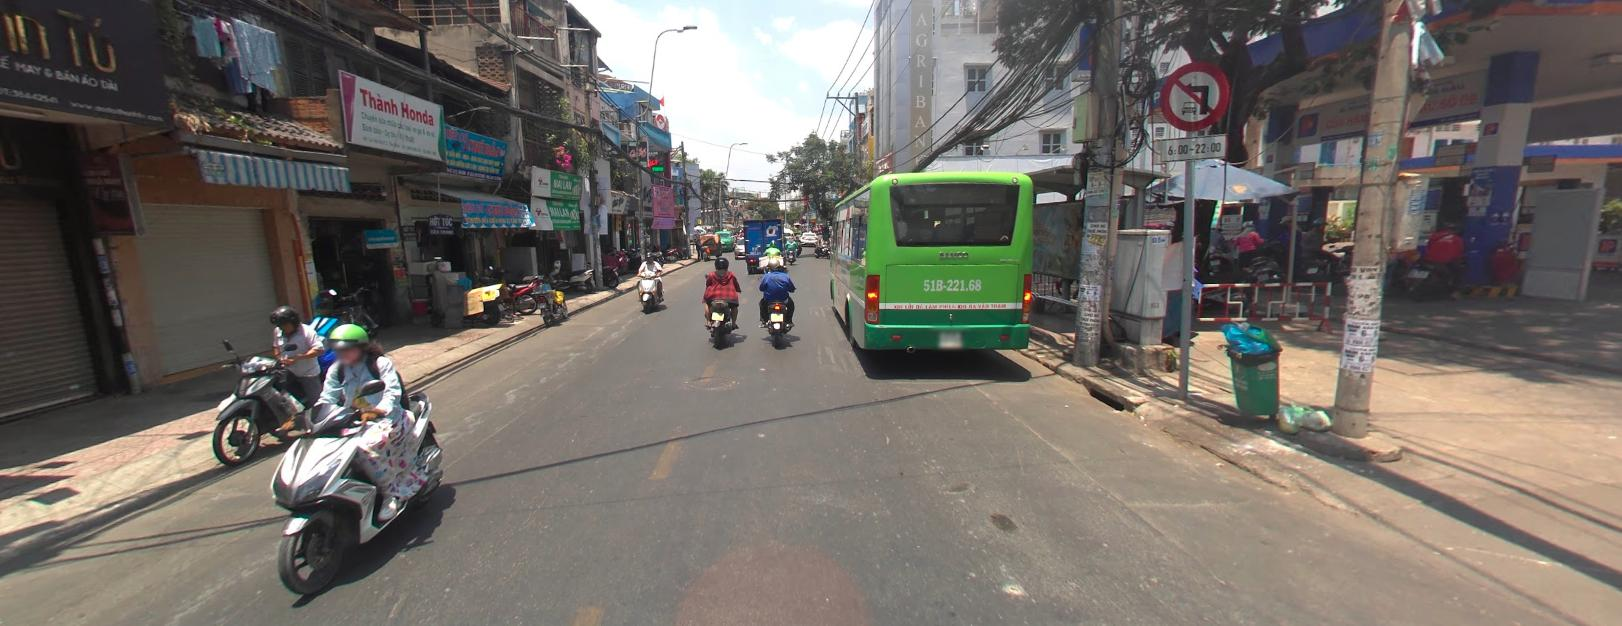Cam re: (1157, 64, 1230, 127)
